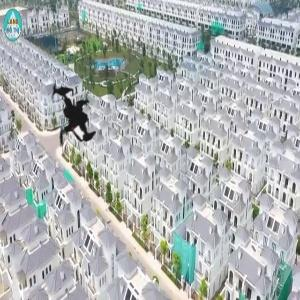drone: (19, 67, 120, 168)
